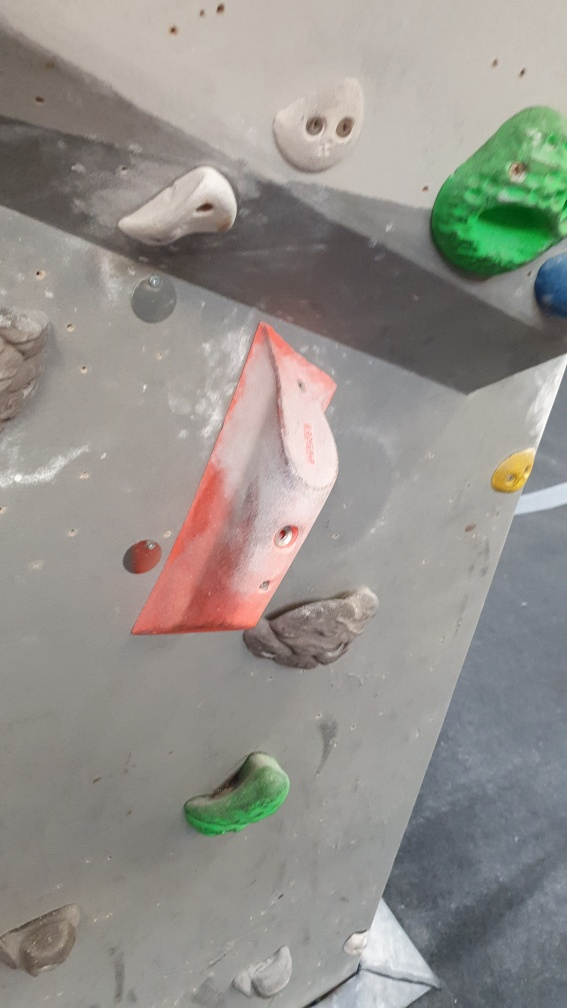Hand Start: (128, 267, 179, 326), (118, 537, 162, 575)
Jug: (240, 585, 384, 671), (179, 747, 296, 841)
Pinch: (125, 320, 340, 641)
